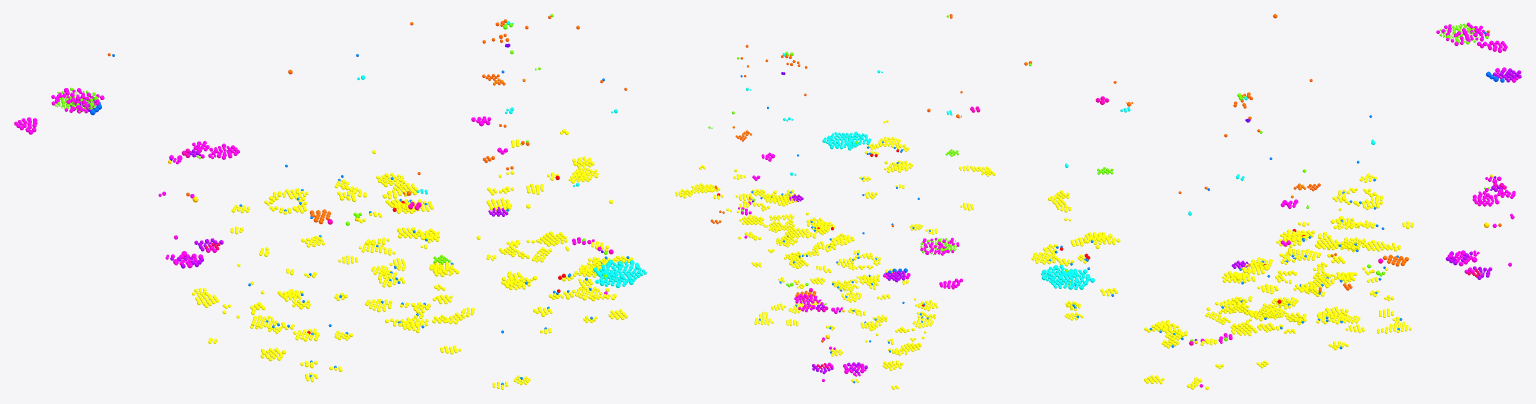
File: task-4ad8c3d69-layout.gltf
3 renders of one model, left to right at view 1: azimuth 30°, elevation 25°; view 2: azimuth 150°, elevation 25°; view 3: azimuth 270°, elevation 25°, orthographic. The views are drawn at different scales.
Parts seen in each view (by area): view 1: normal_java_files, normal_pdf_files, normal_no_ext_files, normal_txt_files, normal_png_files, normal_html_files; view 2: normal_java_files, normal_pdf_files, normal_no_ext_files, normal_png_files, normal_txt_files, normal_html_files, normal_xml_files; view 3: normal_java_files, normal_pdf_files, normal_no_ext_files, normal_png_files, normal_txt_files, normal_html_files.
Boxes of the visible parts, <box> form: normal_java_files: <box>192,129,632,389</box>; normal_pdf_files: <box>14,88,607,294</box>; normal_no_ext_files: <box>357,21,646,287</box>; normal_txt_files: <box>54,14,607,278</box>; normal_png_files: <box>70,97,508,268</box>; normal_html_files: <box>239,54,629,384</box>; normal_java_files: <box>675,120,995,389</box>; normal_pdf_files: <box>738,152,962,381</box>; normal_no_ext_files: <box>746,53,952,175</box>; normal_png_files: <box>789,194,905,374</box>; normal_txt_files: <box>708,15,958,305</box>; normal_html_files: <box>751,141,930,383</box>; normal_xml_files: <box>710,14,962,342</box>; normal_java_files: <box>1031,173,1413,389</box>; normal_pdf_files: <box>1199,22,1518,387</box>; normal_no_ext_files: <box>1041,96,1375,289</box>; normal_png_files: <box>1231,68,1521,279</box>; normal_txt_files: <box>1029,23,1489,341</box>; normal_html_files: <box>1048,115,1402,349</box>.
Bounding box in the file's own units: 358 × 236 × 350.
